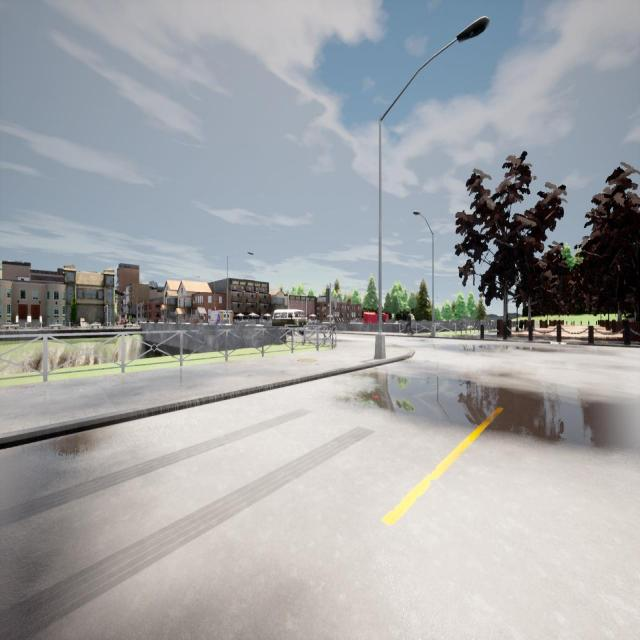Pedestrian: (403, 309, 414, 335)
Vehicle: (272, 309, 307, 326), (207, 310, 233, 324)
traffic_light: (326, 288, 330, 304), (104, 307, 107, 313)
